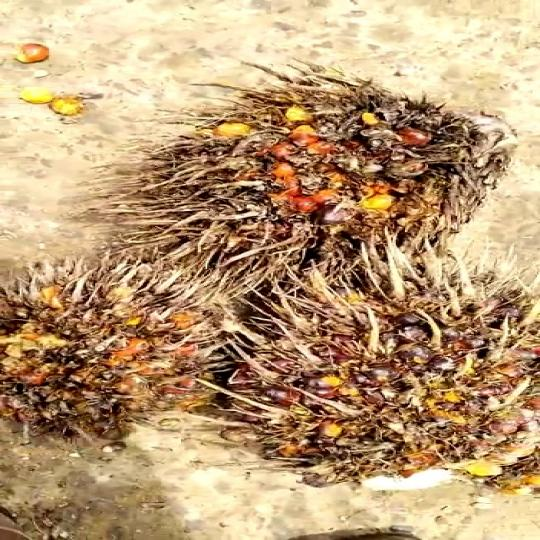terlalu masak: (97, 81, 521, 277), (184, 265, 540, 464)
